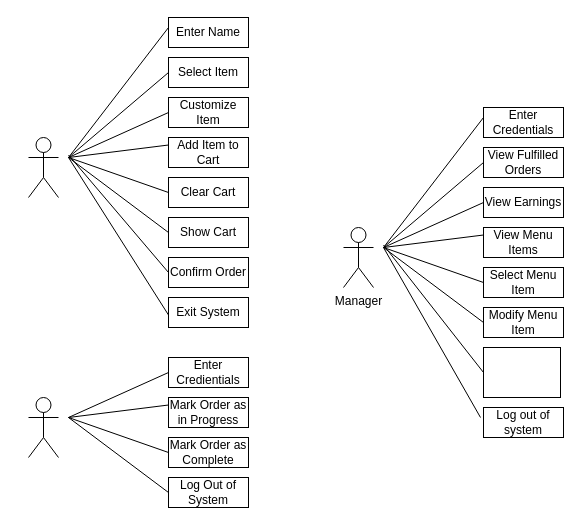
The diagram is 581 pixels wide and 525 high, and some of its shapes have lost their labels. Here are the shapes that lost their labels. From the top down, the centre of each, then its label:
At point (43, 167): "Customer".
At point (521, 372): "View Inventory Levels".
At point (43, 427): "Barista".
